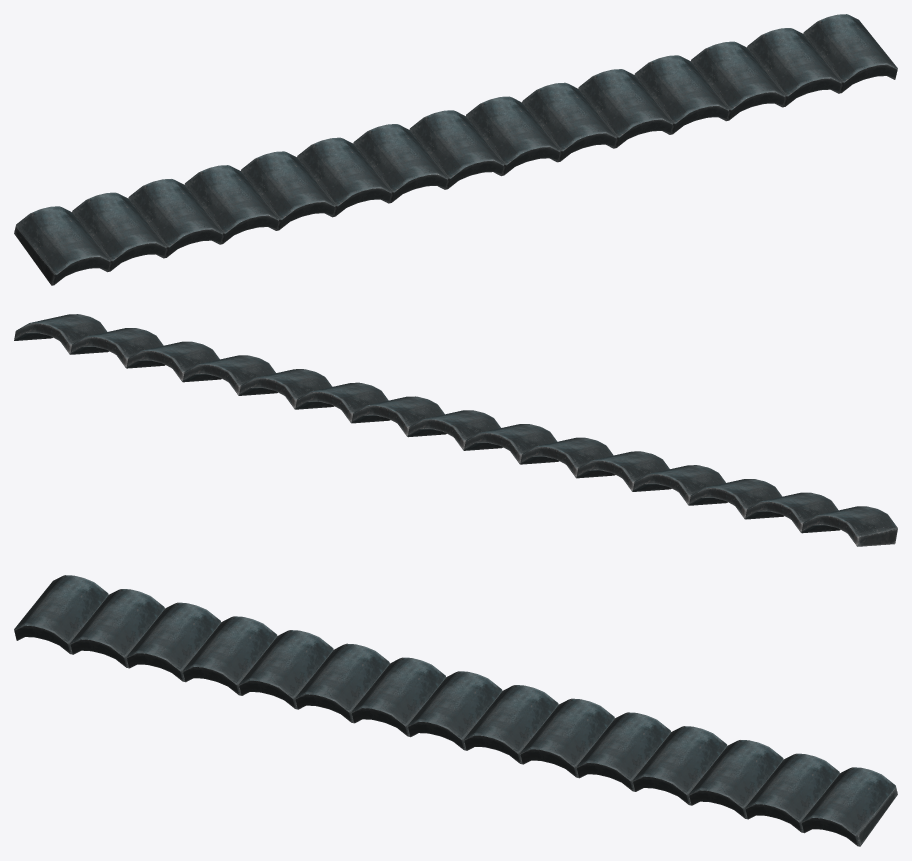
The model's file is tiles03.fbx.
The picture shows the model from 3 angles, top to bottom: view 1: azimuth 30°, elevation 25°; view 2: azimuth 150°, elevation 25°; view 3: azimuth 330°, elevation 25°; orthographic projection.
Parts seen in each view (by area): view 1: Tiles.001; view 2: Tiles.001; view 3: Tiles.001.
Boxes of the visible parts, box(x1,y1,x2,y2) form: Tiles.001: box(14, 14, 897, 285); Tiles.001: box(14, 314, 897, 546); Tiles.001: box(14, 575, 897, 846).
Size of the model in its own units: 18965 by 984 by 1725.
